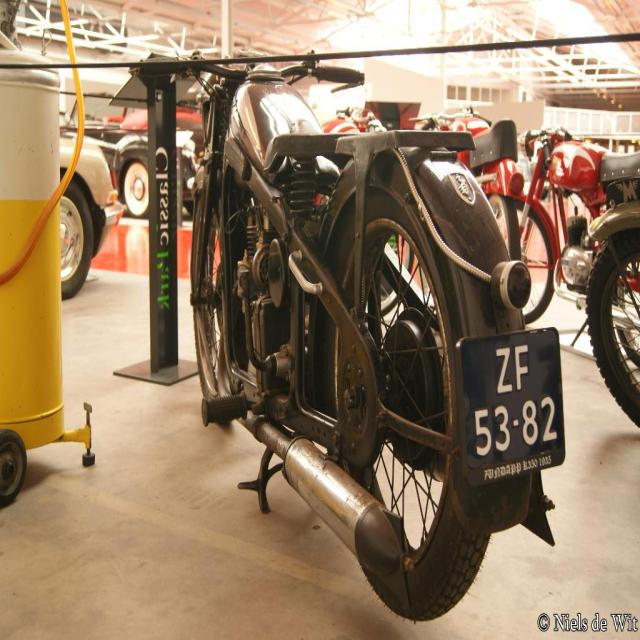Motorbikes: (133, 50, 569, 625)
